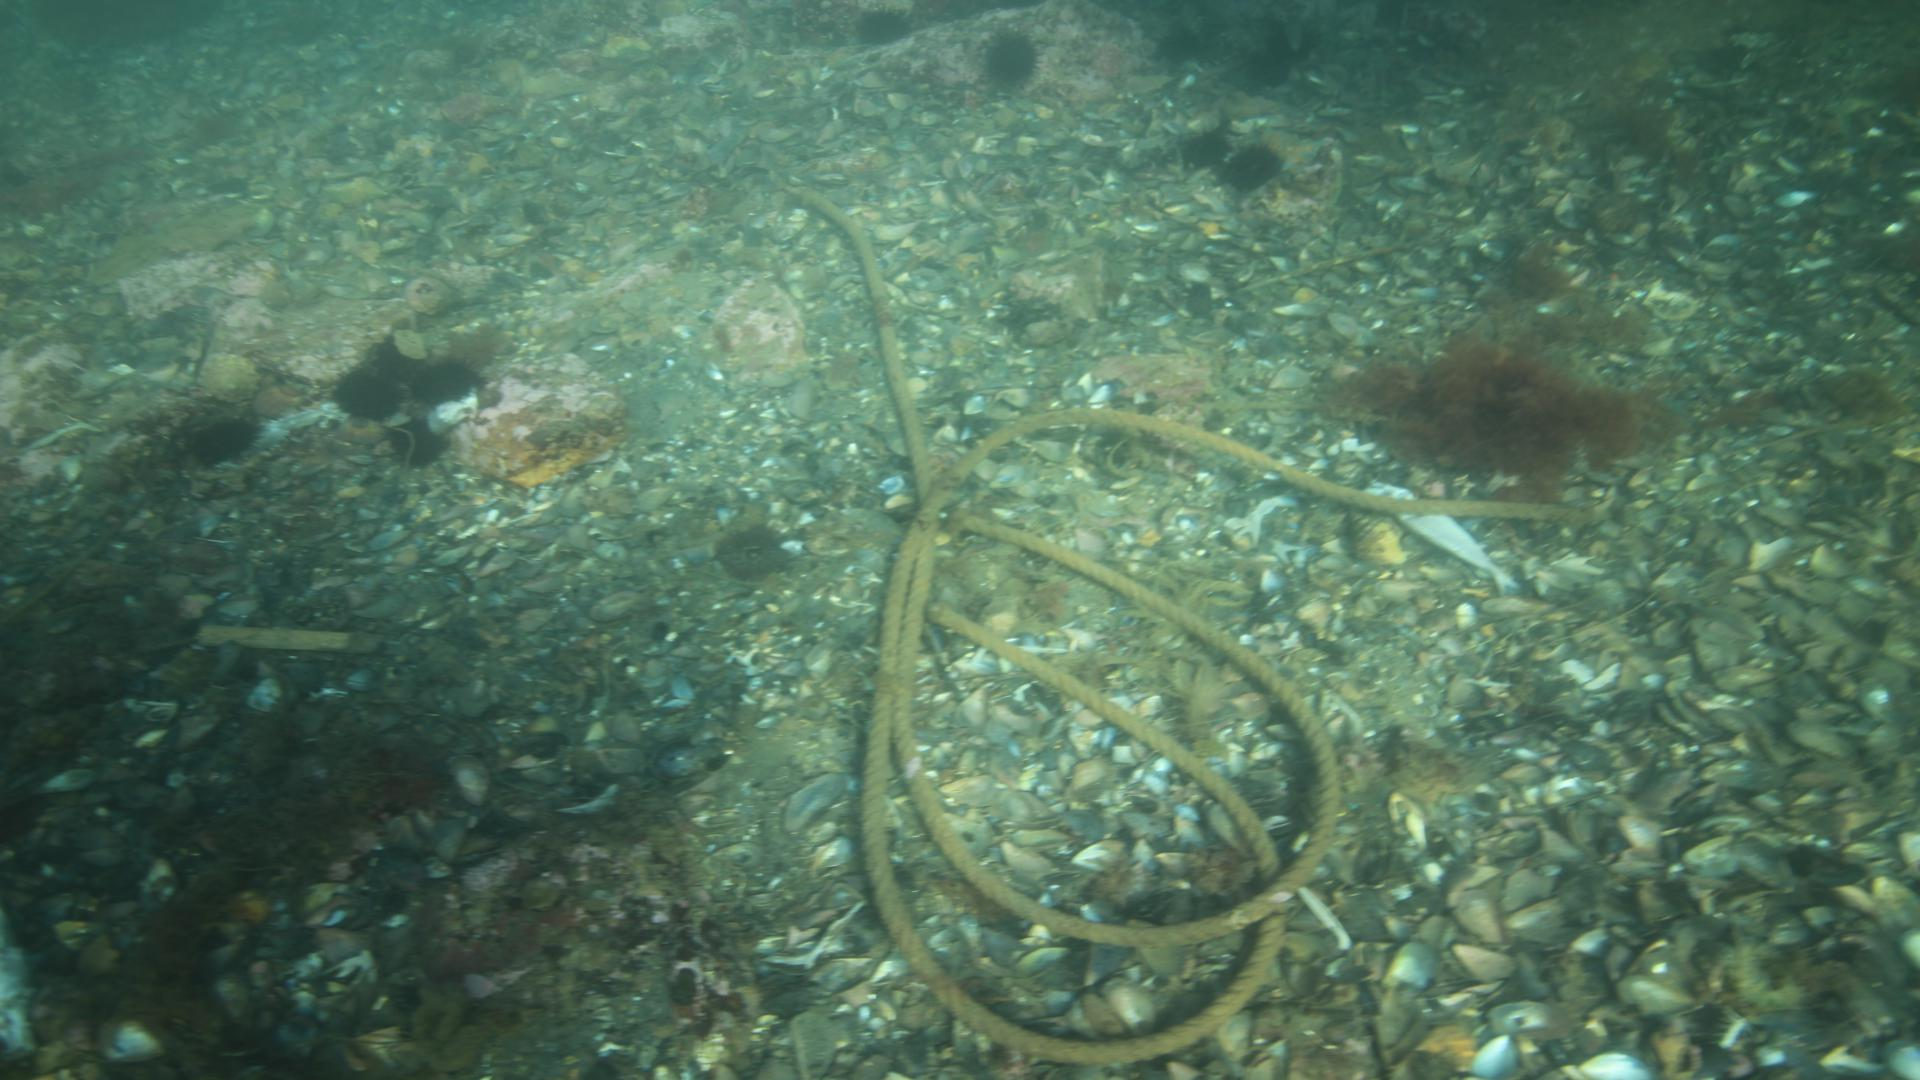bundle of ropes: (775, 166, 1611, 1062)
